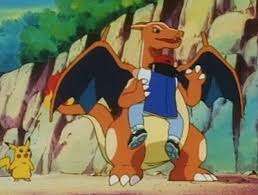charizard: (47, 16, 245, 184)
pikachu: (1, 136, 35, 183)
